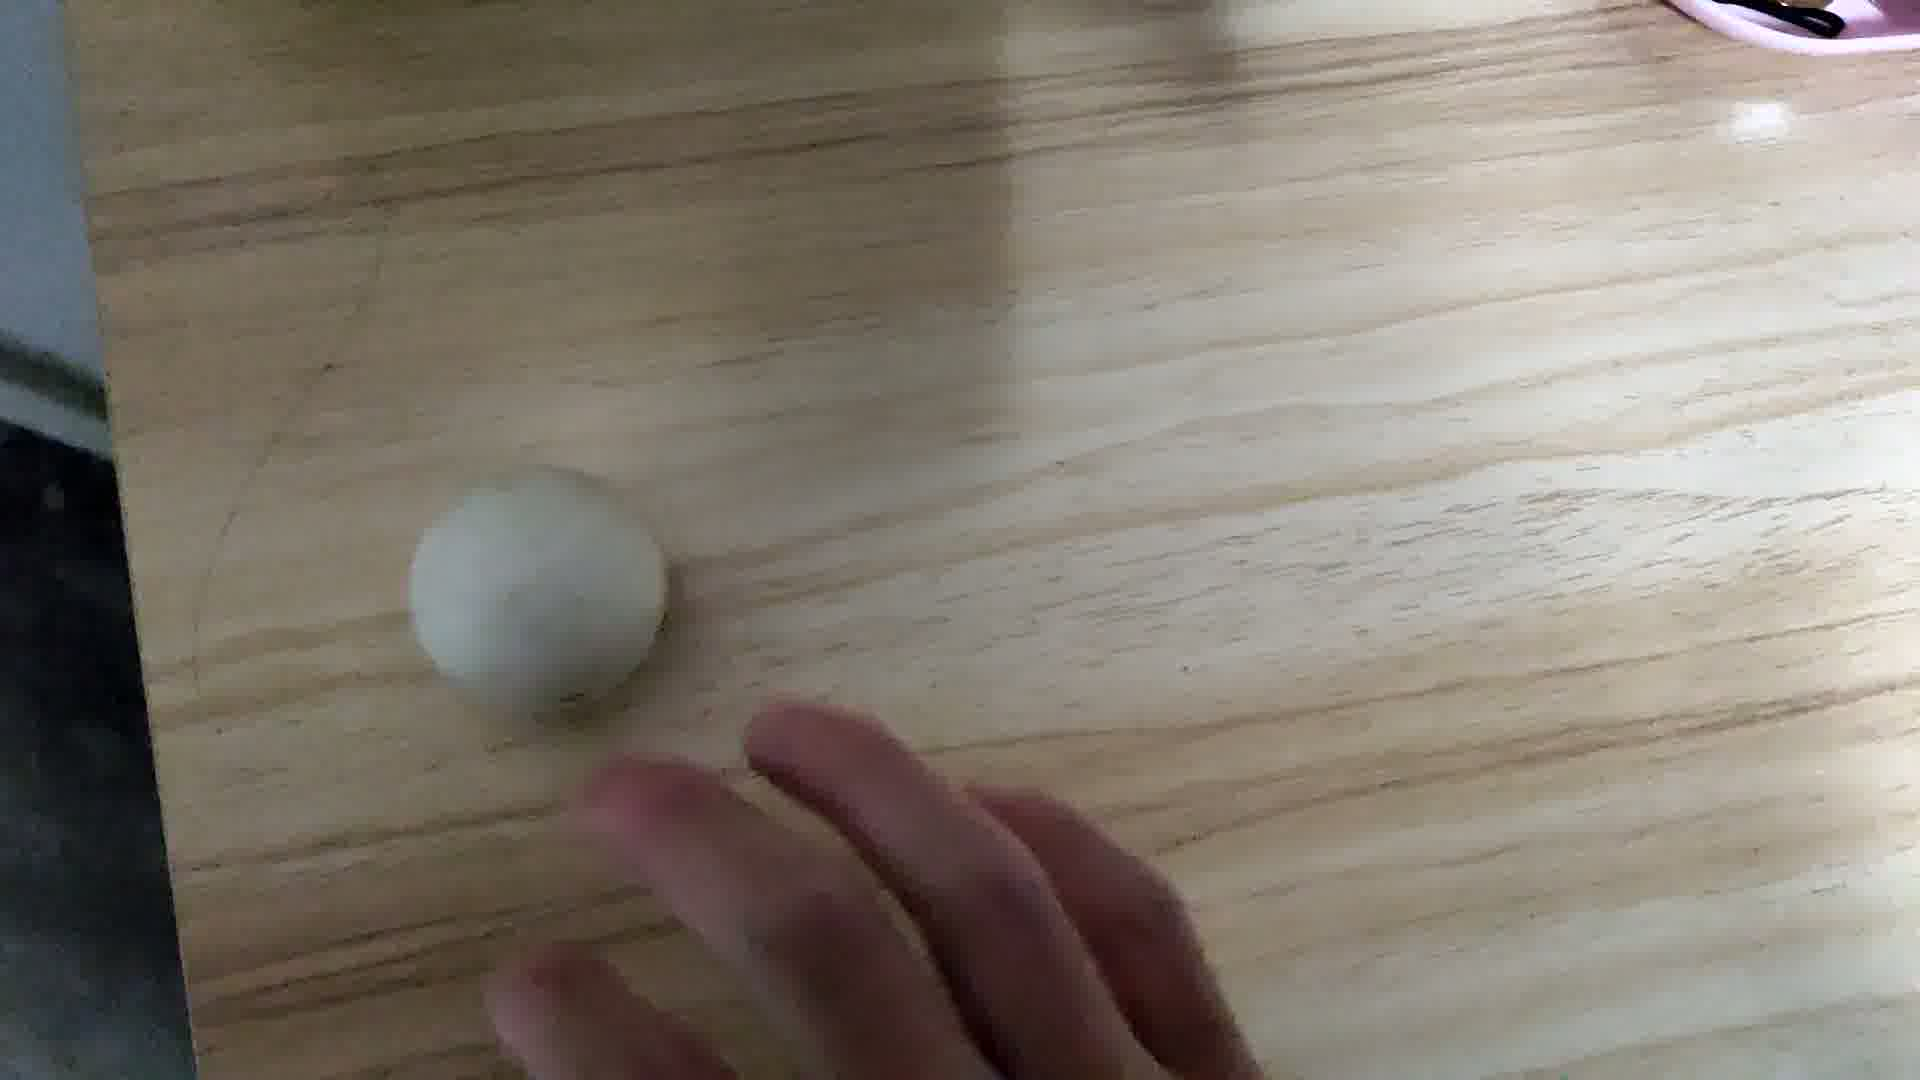Ball: (406, 469, 673, 711)
